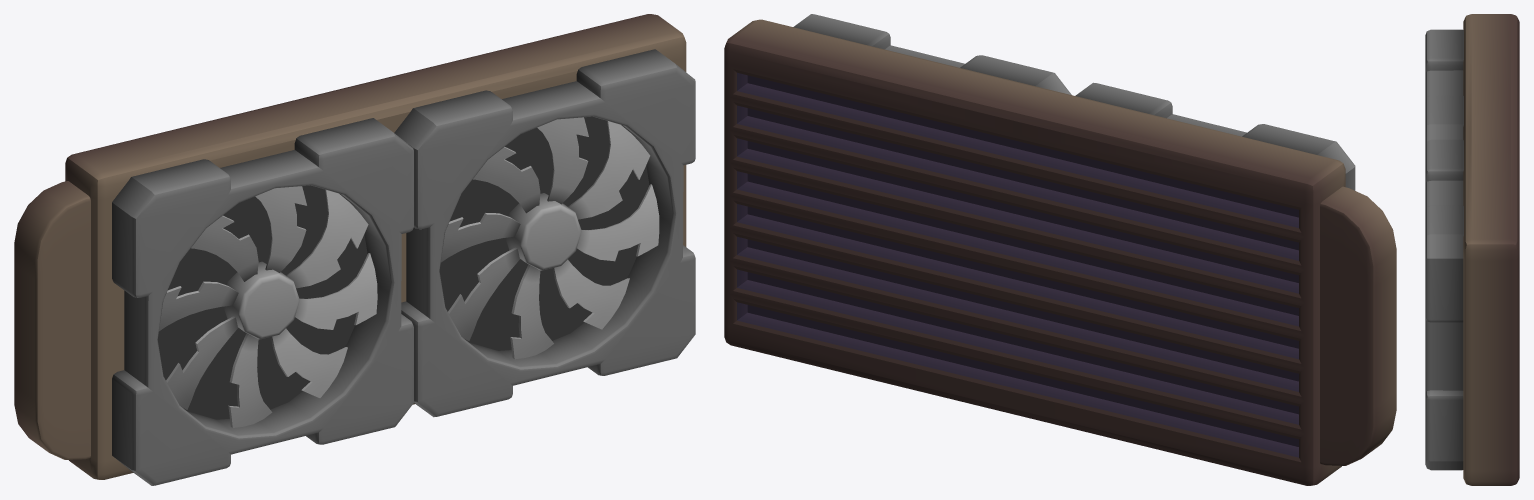
Rendered from Cooling_systems_lvl_08_V06.fbx.
The picture shows the model from 3 angles, left to right: view 1: azimuth 30°, elevation 25°; view 2: azimuth 150°, elevation 25°; view 3: azimuth 270°, elevation 25°; orthographic projection. The views are drawn at different scales.
Visible parts, largest first — view 1: Body_Cooling, Fan_Cooling_01, Fan_Cooling_01.001; view 2: Body_Cooling; view 3: Body_Cooling.
Part boxes in pixels (bbox=[...]): Body_Cooling: bbox=[14, 14, 695, 485]; Fan_Cooling_01: bbox=[159, 186, 377, 427]; Fan_Cooling_01.001: bbox=[441, 117, 659, 359]; Body_Cooling: bbox=[724, 14, 1396, 485]; Body_Cooling: bbox=[1425, 14, 1519, 485].
Size of the model in its own units: 119 by 53.89 by 18.72.
